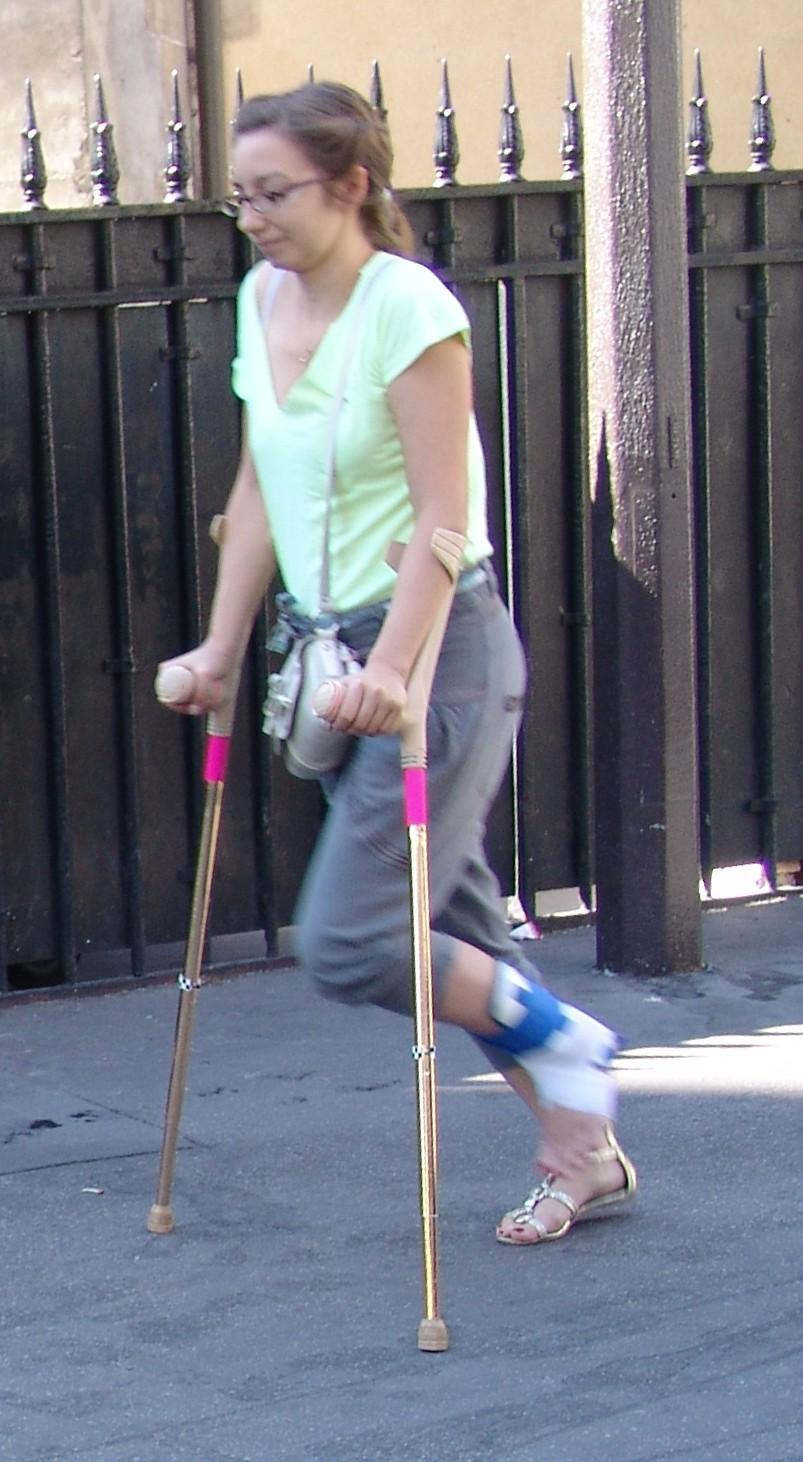crutches: (145, 80, 640, 1352)
